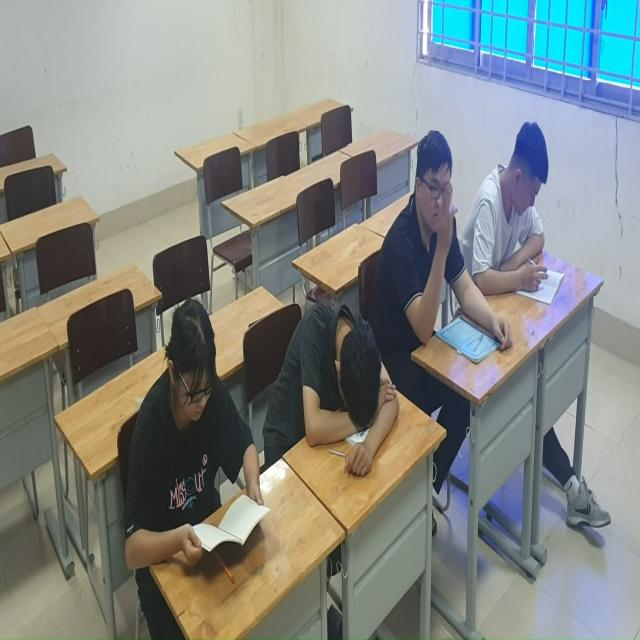raise_hand: (388, 129, 472, 352)
read: (127, 300, 265, 577), (475, 122, 572, 310)
sleep: (265, 295, 405, 480)
